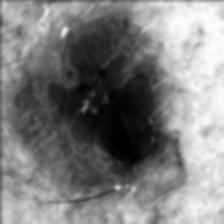Potentially Malignant Skin Tumors: (60, 72, 178, 186)
